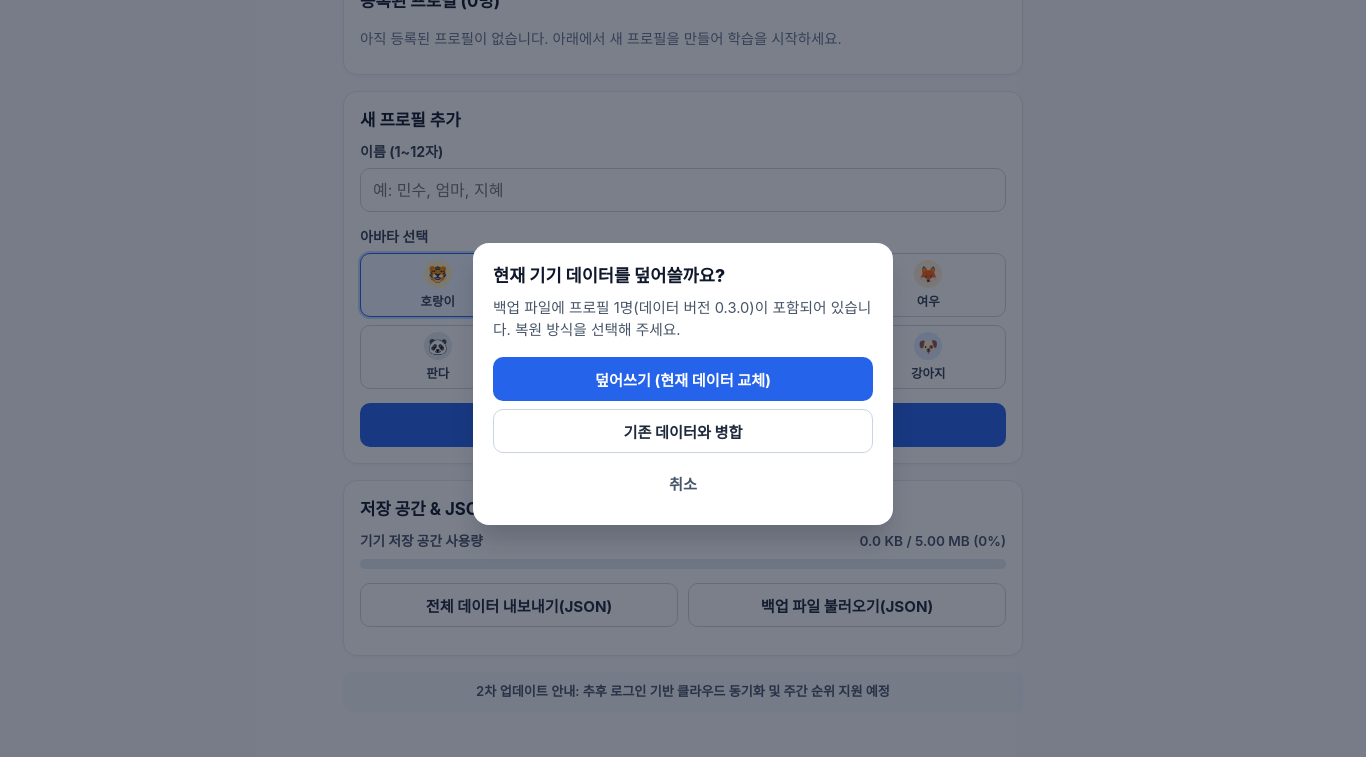
Test case: M4 UI & Full User Flow Integration Tests › 6. Exports JSON backup, restores after localStorage clear, and rejects malformed JSON without altering data
Earlier steps of the test are not shown.
Later steps or results of the test are not shown.
(page scrolled)
expect the heading "현재 기기 데이터를 덮어쓸까요?" is shown: met, box [493,265,725,286]
Click the button "덮어쓰기 (현재 데이터 교체)": point(683, 379) [493,357,873,401]
(page scrolled)
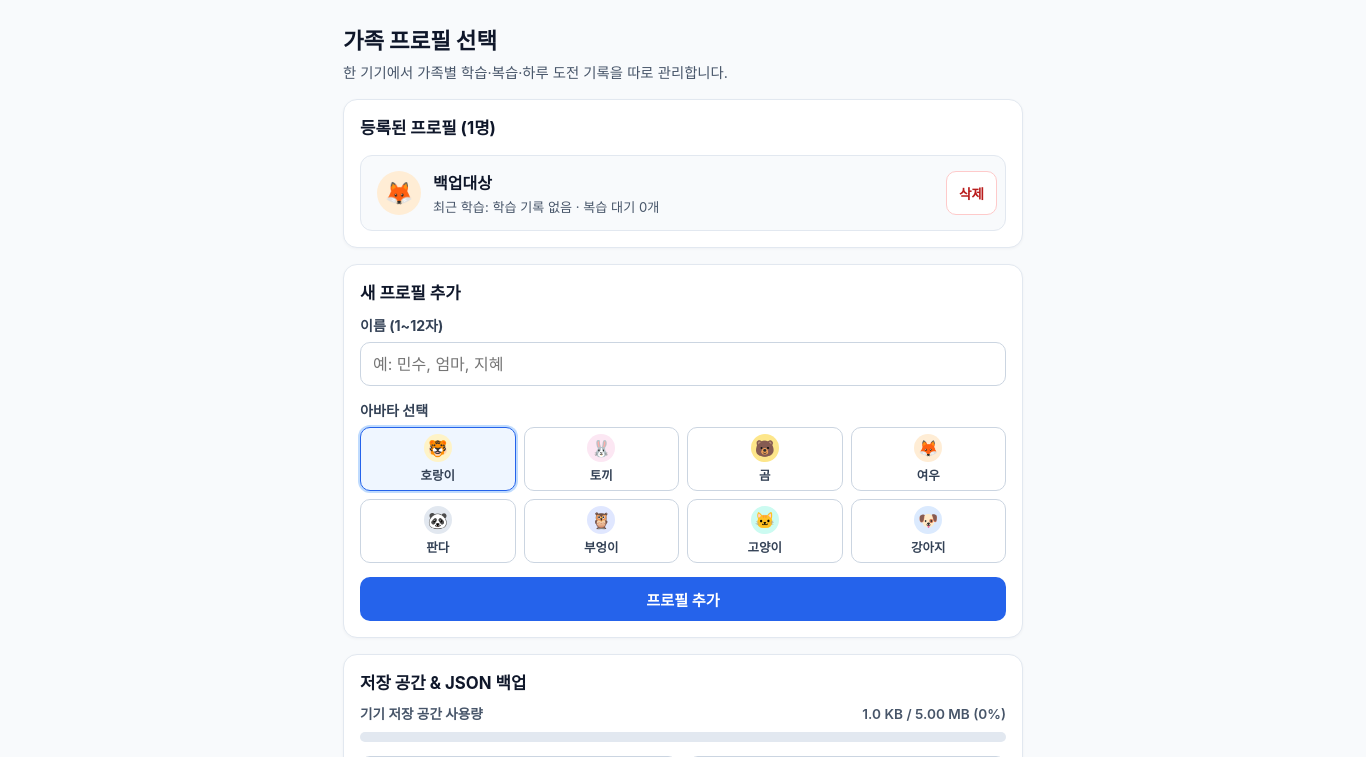
expect the button with aria-label "백업대상 프로필로 시작" is shown: met, box [369,164,936,222]
